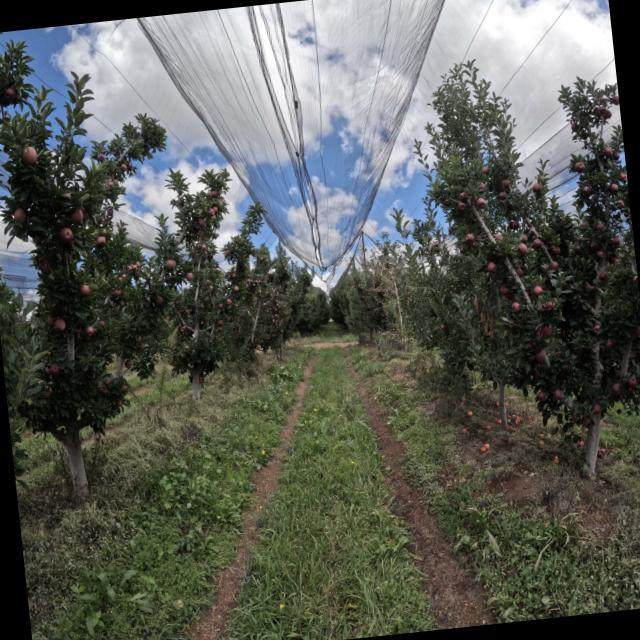-FireBlight-: (466, 288, 496, 339)
